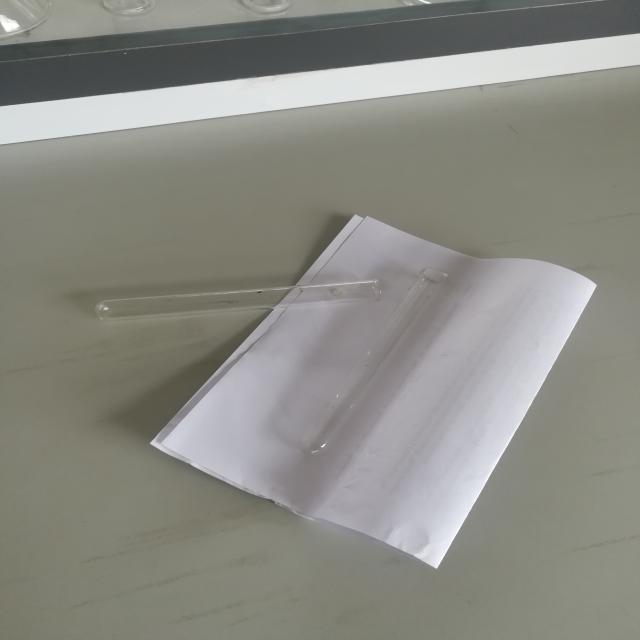Test_Tube: (256, 249, 523, 484), (67, 253, 409, 330)
